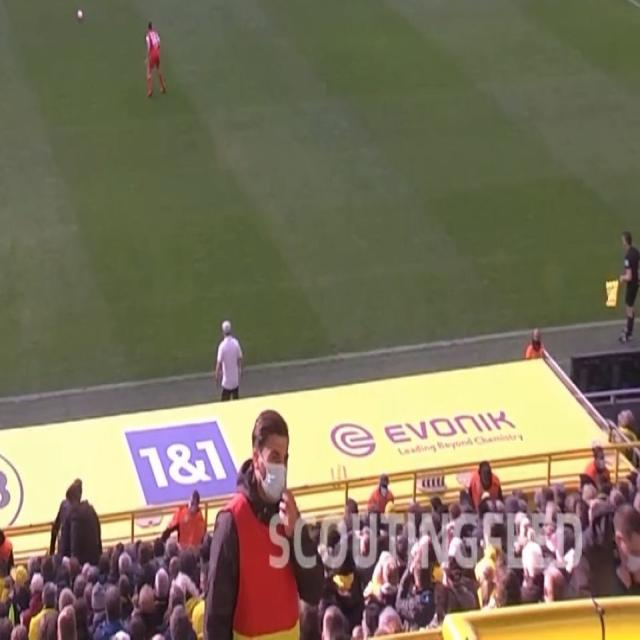ball: (75, 8, 84, 21)
